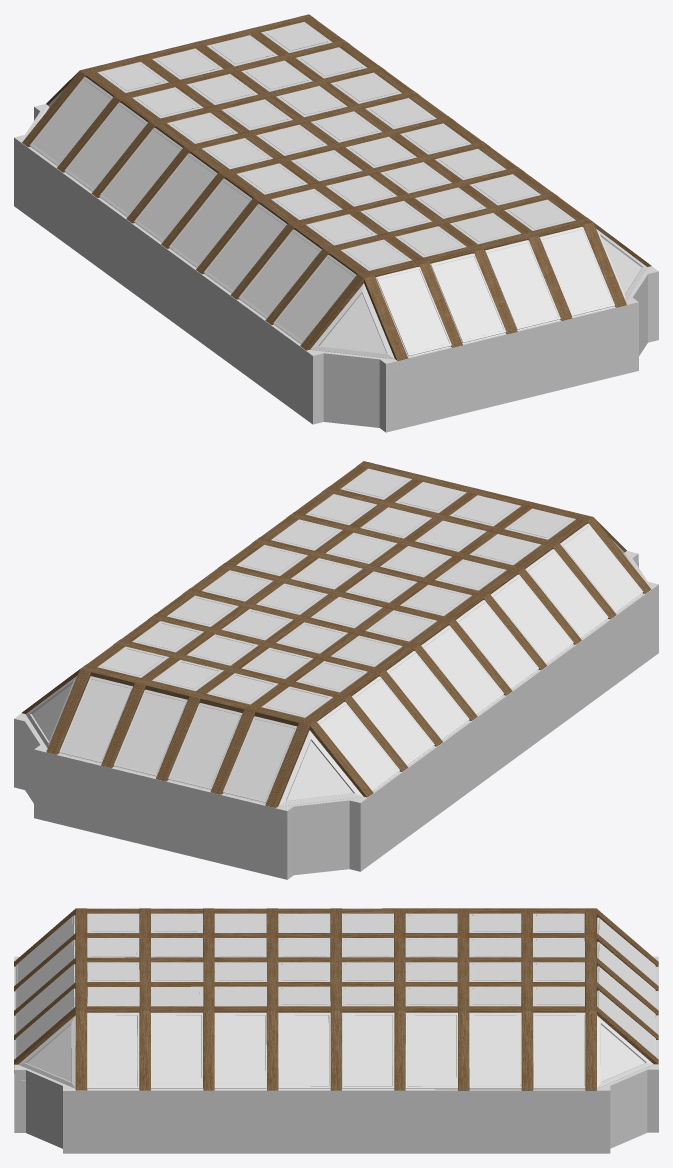
The model's file is room_with_roof.fbx.
The picture shows the model from 3 angles, top to bottom: view 1: azimuth 30°, elevation 25°; view 2: azimuth 150°, elevation 25°; view 3: azimuth 270°, elevation 25°; orthographic projection. The views are drawn at different scales.
Visible parts, largest first — view 1: walls, glas, glas.001, roof_structure2, roof_structure1, glas.004, windowframe2, window.004, window.001, Cube.040, Cube.041, Cube.037 (+2 smaller); view 2: walls, glas, glas.001, roof_structure2, roof_structure1, glas.002, windowframe2, window.004, window, Cube.038, Cube.039, Cube.023 (+1 smaller); view 3: walls, glas.005, glas, roof_structure2, roof_structure1, windowframe2, window.002, glas.004, glas.002, Cube.037, Cube.023, window_frame.003 (+4 smaller).
Boxes of the visible parts, bbox=[...] form: walls: bbox=[14, 57, 658, 432]; glas: bbox=[102, 23, 570, 268]; glas.001: bbox=[32, 79, 353, 341]; roof_structure2: bbox=[22, 14, 651, 350]; roof_structure1: bbox=[46, 19, 626, 360]; glas.004: bbox=[379, 229, 612, 353]; windowframe2: bbox=[97, 22, 575, 270]; window.004: bbox=[30, 77, 356, 343]; window.001: bbox=[376, 227, 615, 356]; Cube.040: bbox=[320, 293, 386, 353]; Cube.041: bbox=[310, 283, 394, 359]; Cube.037: bbox=[601, 237, 641, 294]; walls: bbox=[14, 551, 658, 879]; glas: bbox=[102, 470, 570, 715]; glas.001: bbox=[319, 526, 640, 788]; roof_structure2: bbox=[22, 461, 651, 797]; roof_structure1: bbox=[46, 465, 626, 807]; glas.002: bbox=[61, 679, 294, 799]; windowframe2: bbox=[97, 468, 575, 717]; window.004: bbox=[317, 523, 643, 790]; window: bbox=[59, 676, 296, 802]; Cube.038: bbox=[286, 741, 352, 800]; Cube.039: bbox=[278, 730, 363, 806]; Cube.023: bbox=[32, 684, 72, 741]; walls: bbox=[14, 956, 658, 1153]; glas.005: bbox=[88, 1015, 583, 1086]; glas: bbox=[91, 914, 581, 1004]; roof_structure2: bbox=[75, 908, 596, 1090]; roof_structure1: bbox=[14, 908, 658, 1064]; windowframe2: bbox=[87, 913, 584, 1006]; window.002: bbox=[87, 1013, 585, 1088]; glas.004: bbox=[17, 917, 72, 1055]; glas.002: bbox=[599, 919, 654, 1055]; Cube.037: bbox=[27, 1025, 71, 1081]; Cube.023: bbox=[600, 1025, 644, 1081]; window_frame.003: bbox=[87, 1012, 585, 1089].
Size of the model in its own units: 1268 by 444 by 2228.
